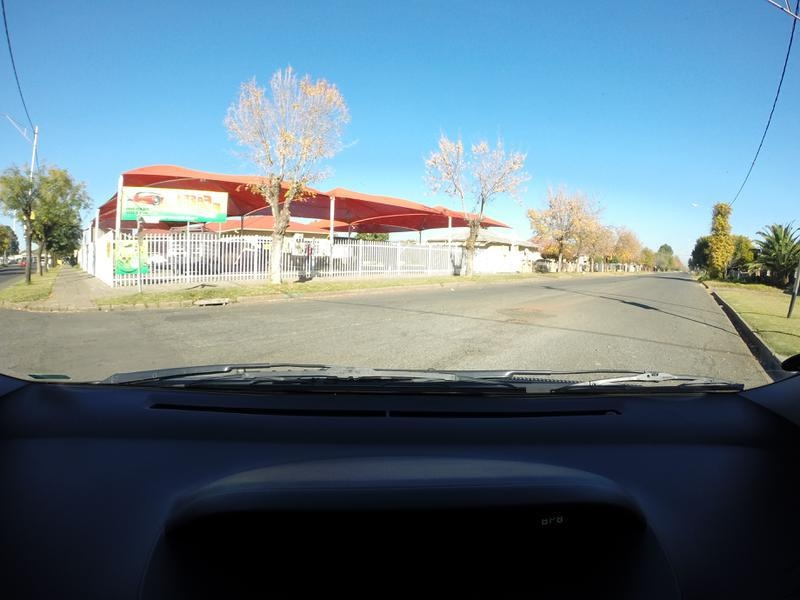pothole: (502, 320, 528, 327)
